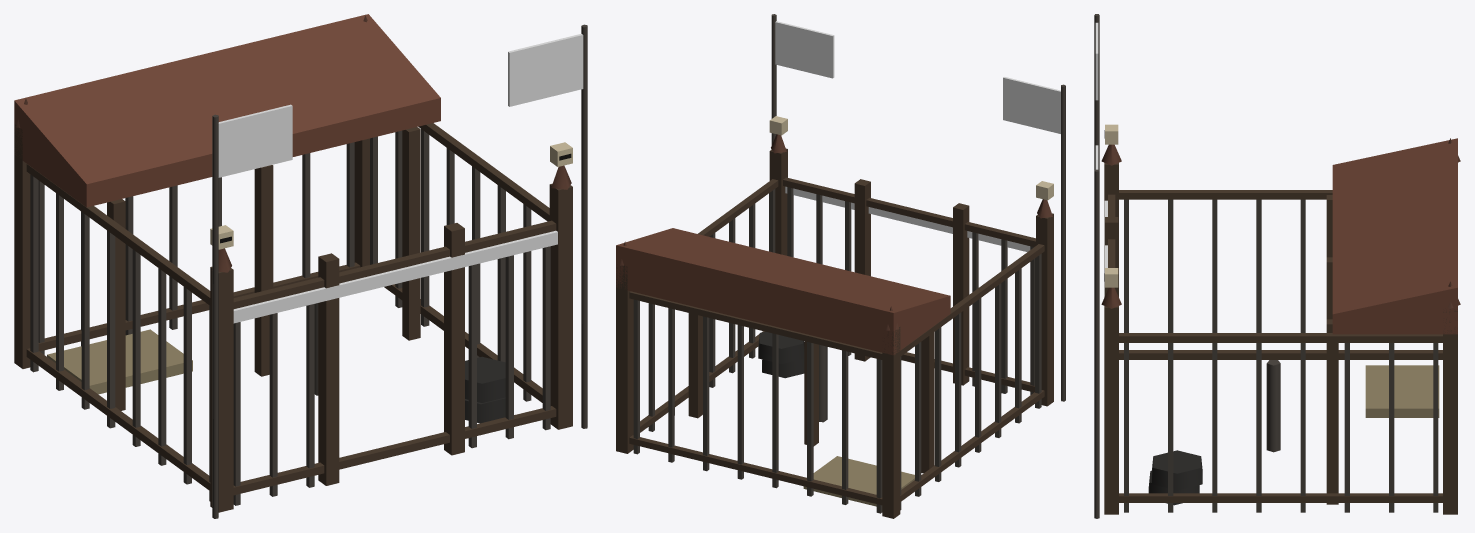
3 renders of one model, left to right at view 1: azimuth 30°, elevation 25°; view 2: azimuth 150°, elevation 25°; view 3: azimuth 270°, elevation 25°, orthographic. The views are drawn at different scales.
Visible parts, largest first — view 1: raider_building_cage; view 2: raider_building_cage; view 3: raider_building_cage.
Part boxes in pixels (x1,y1,x2,y2): raider_building_cage: (14, 14, 587, 518); raider_building_cage: (616, 14, 1065, 518); raider_building_cage: (1094, 14, 1460, 518).
Bounding box in the file's own units: 5.07 × 5.2 × 4.98.
